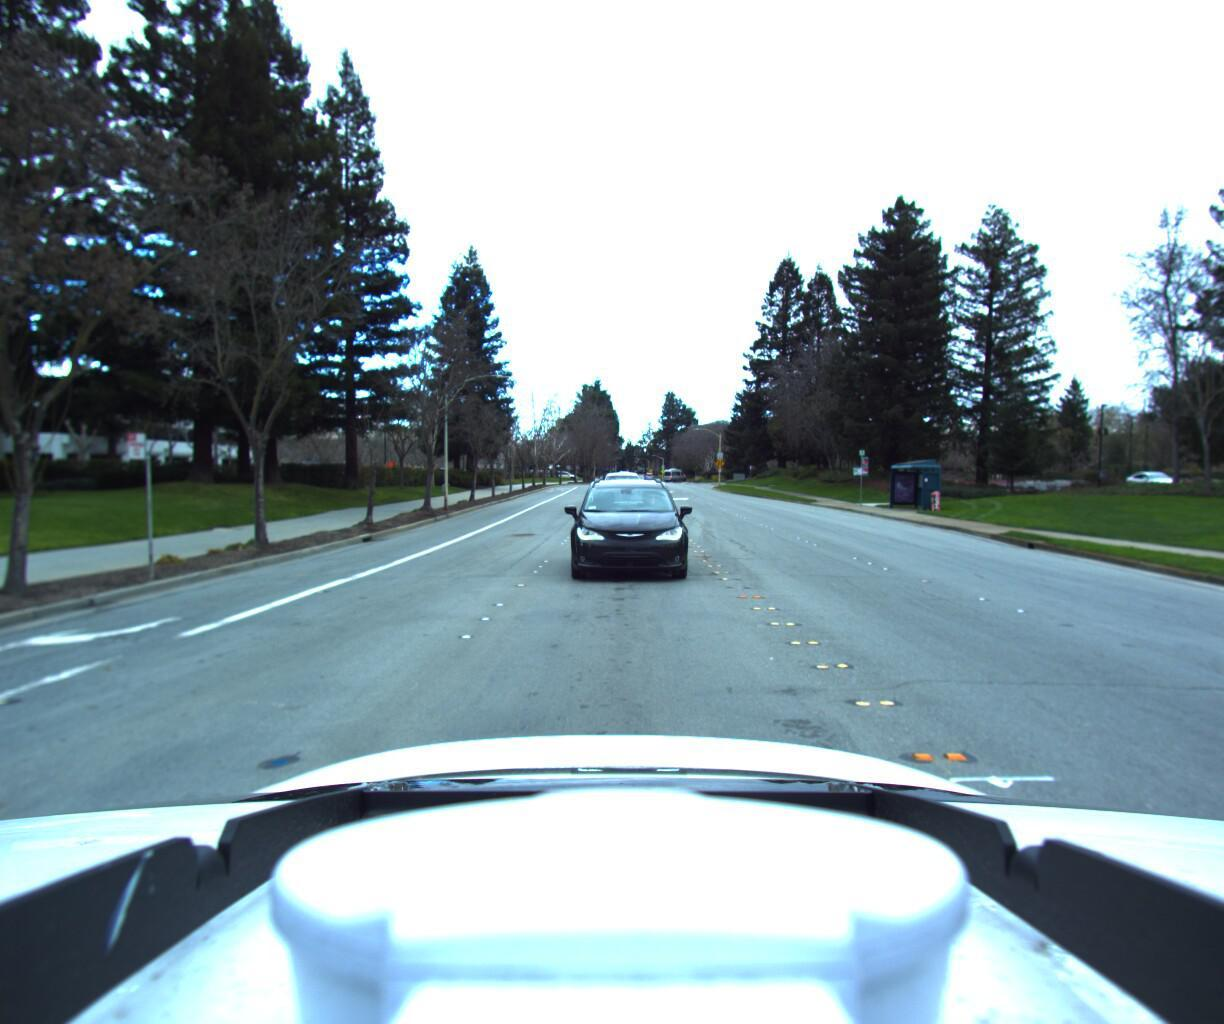car: (560, 464, 692, 583)
